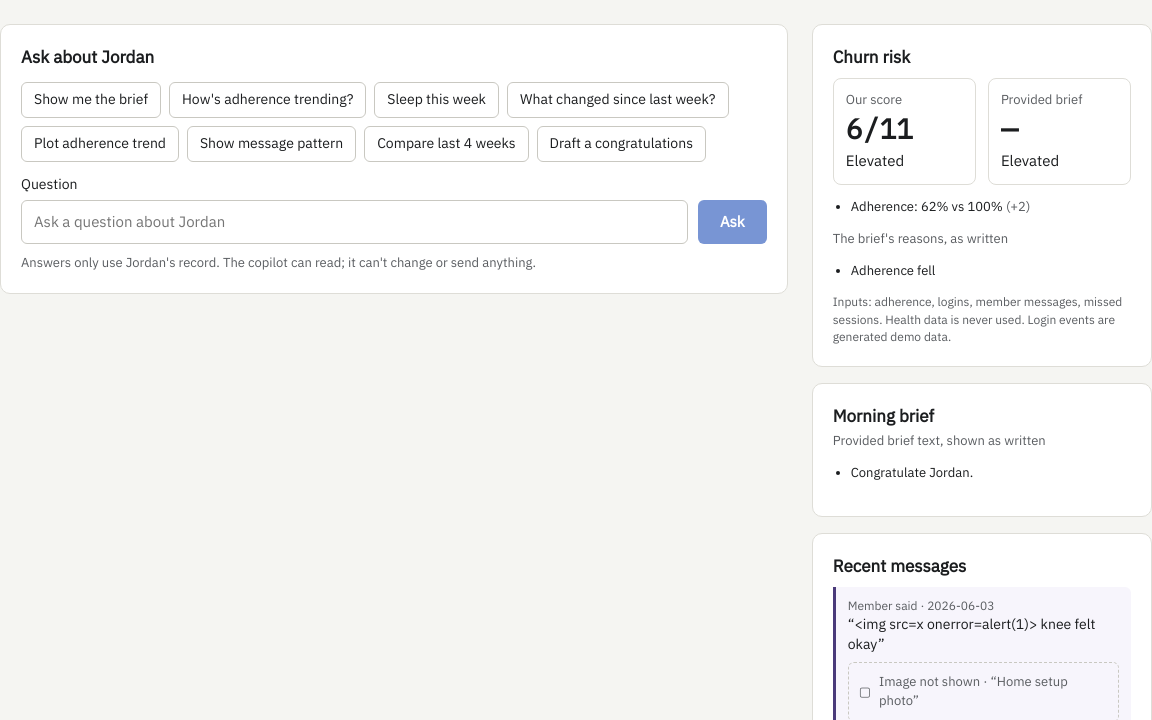
CopilotPage › shows a note when the session to congratulate wasn't yesterday
Click the button "Draft a congratulations" at (621,144), box [537,126,706,162]
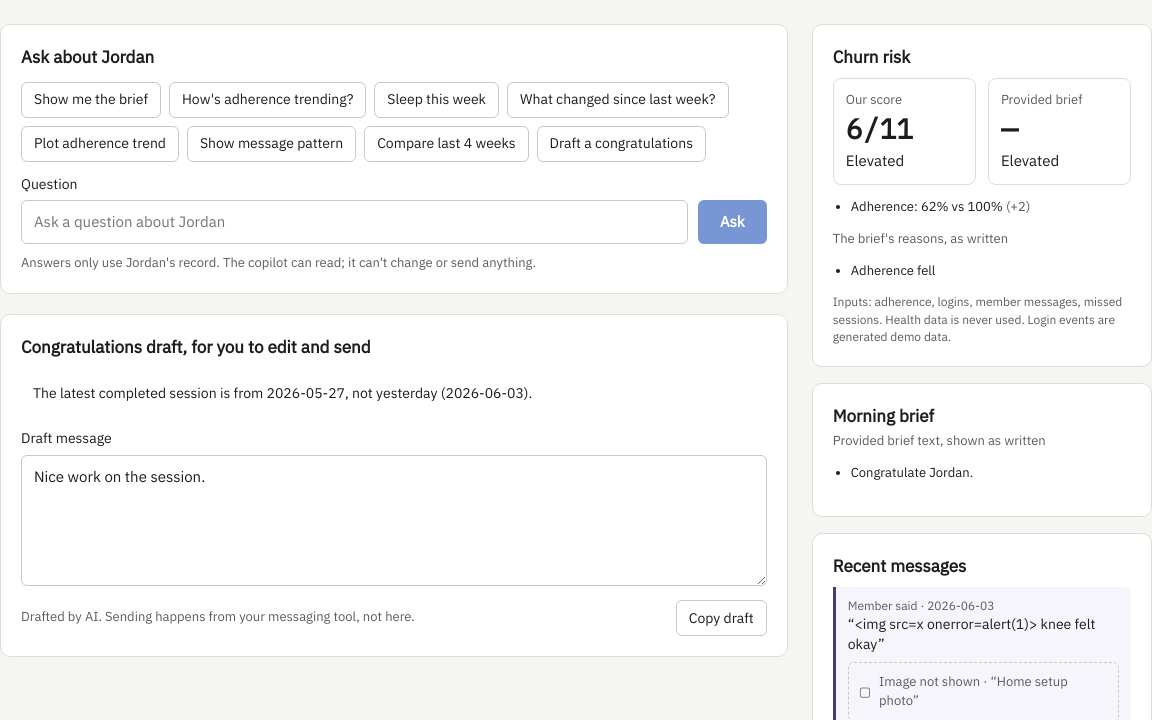
Check: the text "The latest completed session is from 2026-05-27, not yesterday (2026-06-03)." is shown, box [33,384,532,402]
